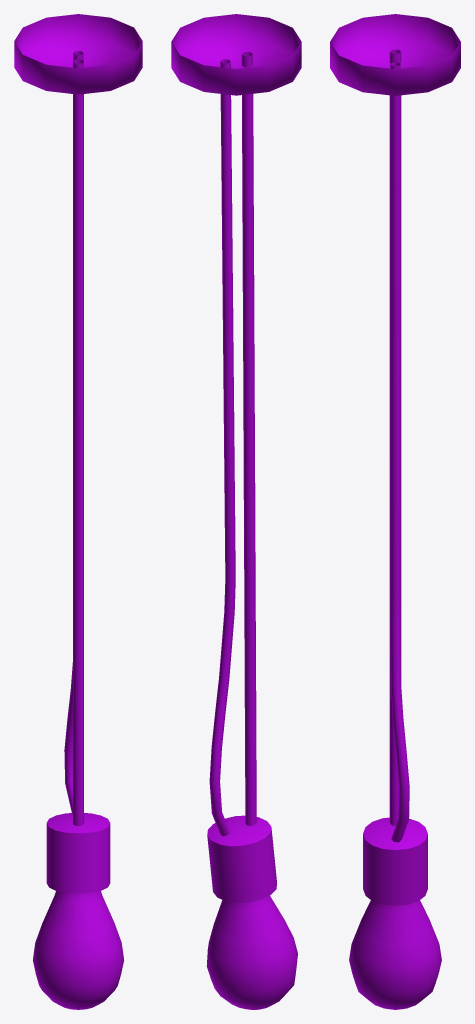
File: SM_HangingBulb_mesh.fbx
The picture shows the model from 3 angles, left to right: view 1: azimuth 90°, elevation 25°; view 2: azimuth 210°, elevation 25°; view 3: azimuth 270°, elevation 25°; orthographic projection.
Parts seen in each view (by area): view 1: Cube.001, Cylinder.002, Cylinder.005; view 2: Cylinder.002, Cube.001, Cylinder.005; view 3: Cube.001, Cylinder.002, Cylinder.005.
Part boxes in pixels (x1,y1,x2,y2): Cube.001: [33, 813, 123, 1009]; Cylinder.002: [64, 51, 83, 825]; Cylinder.005: [14, 14, 142, 94]; Cylinder.002: [209, 52, 256, 836]; Cube.001: [206, 815, 297, 1009]; Cylinder.005: [171, 14, 301, 95]; Cube.001: [349, 817, 441, 1009]; Cylinder.002: [389, 49, 409, 842]; Cylinder.005: [330, 14, 460, 95].
Size of the model in its own units: 14.53 by 119 by 14.53.
